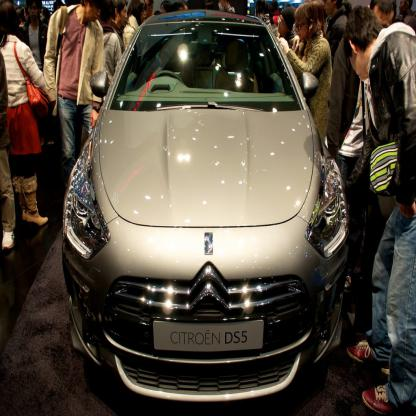Car: (62, 10, 349, 401)
